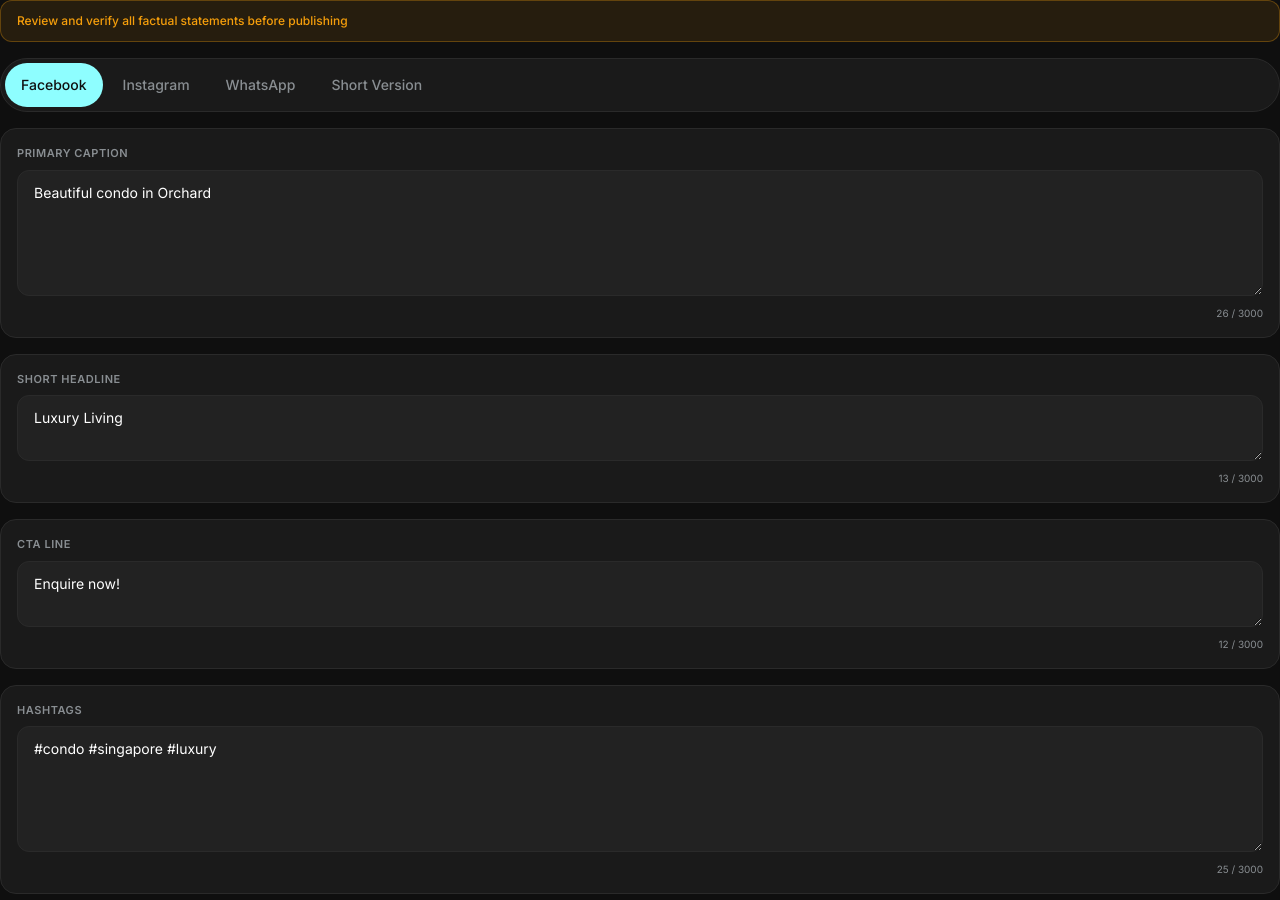
it: CopyOutputPanel › Tab switching preserves content › switching tabs shows correct variants for the selected tab
The width and height of the screenshot is (1280, 900).
Expected: the text "Primary Caption" is shown, [17,146,128,160]
Switch to Instagram
Click the tab "Instagram" at x=156, y=85, box [107,63,206,107]
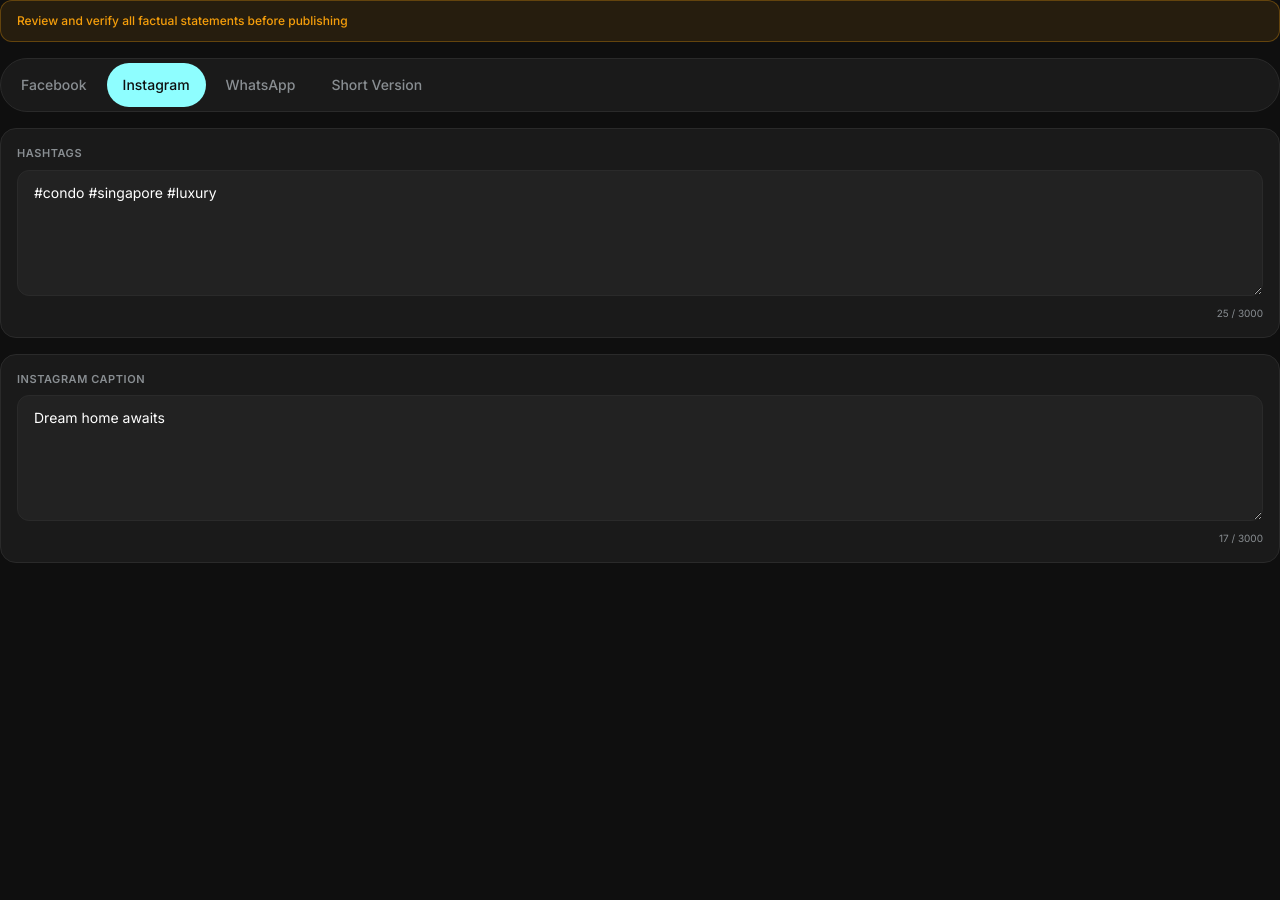
Expected: the text "Instagram Caption" is shown, [17,372,145,386]
Expected: the text "Primary Caption" is gone
